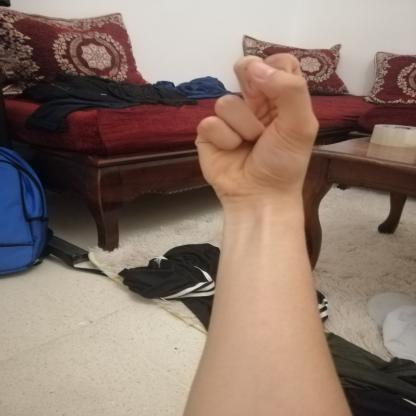QAAF: (180, 41, 337, 211)
